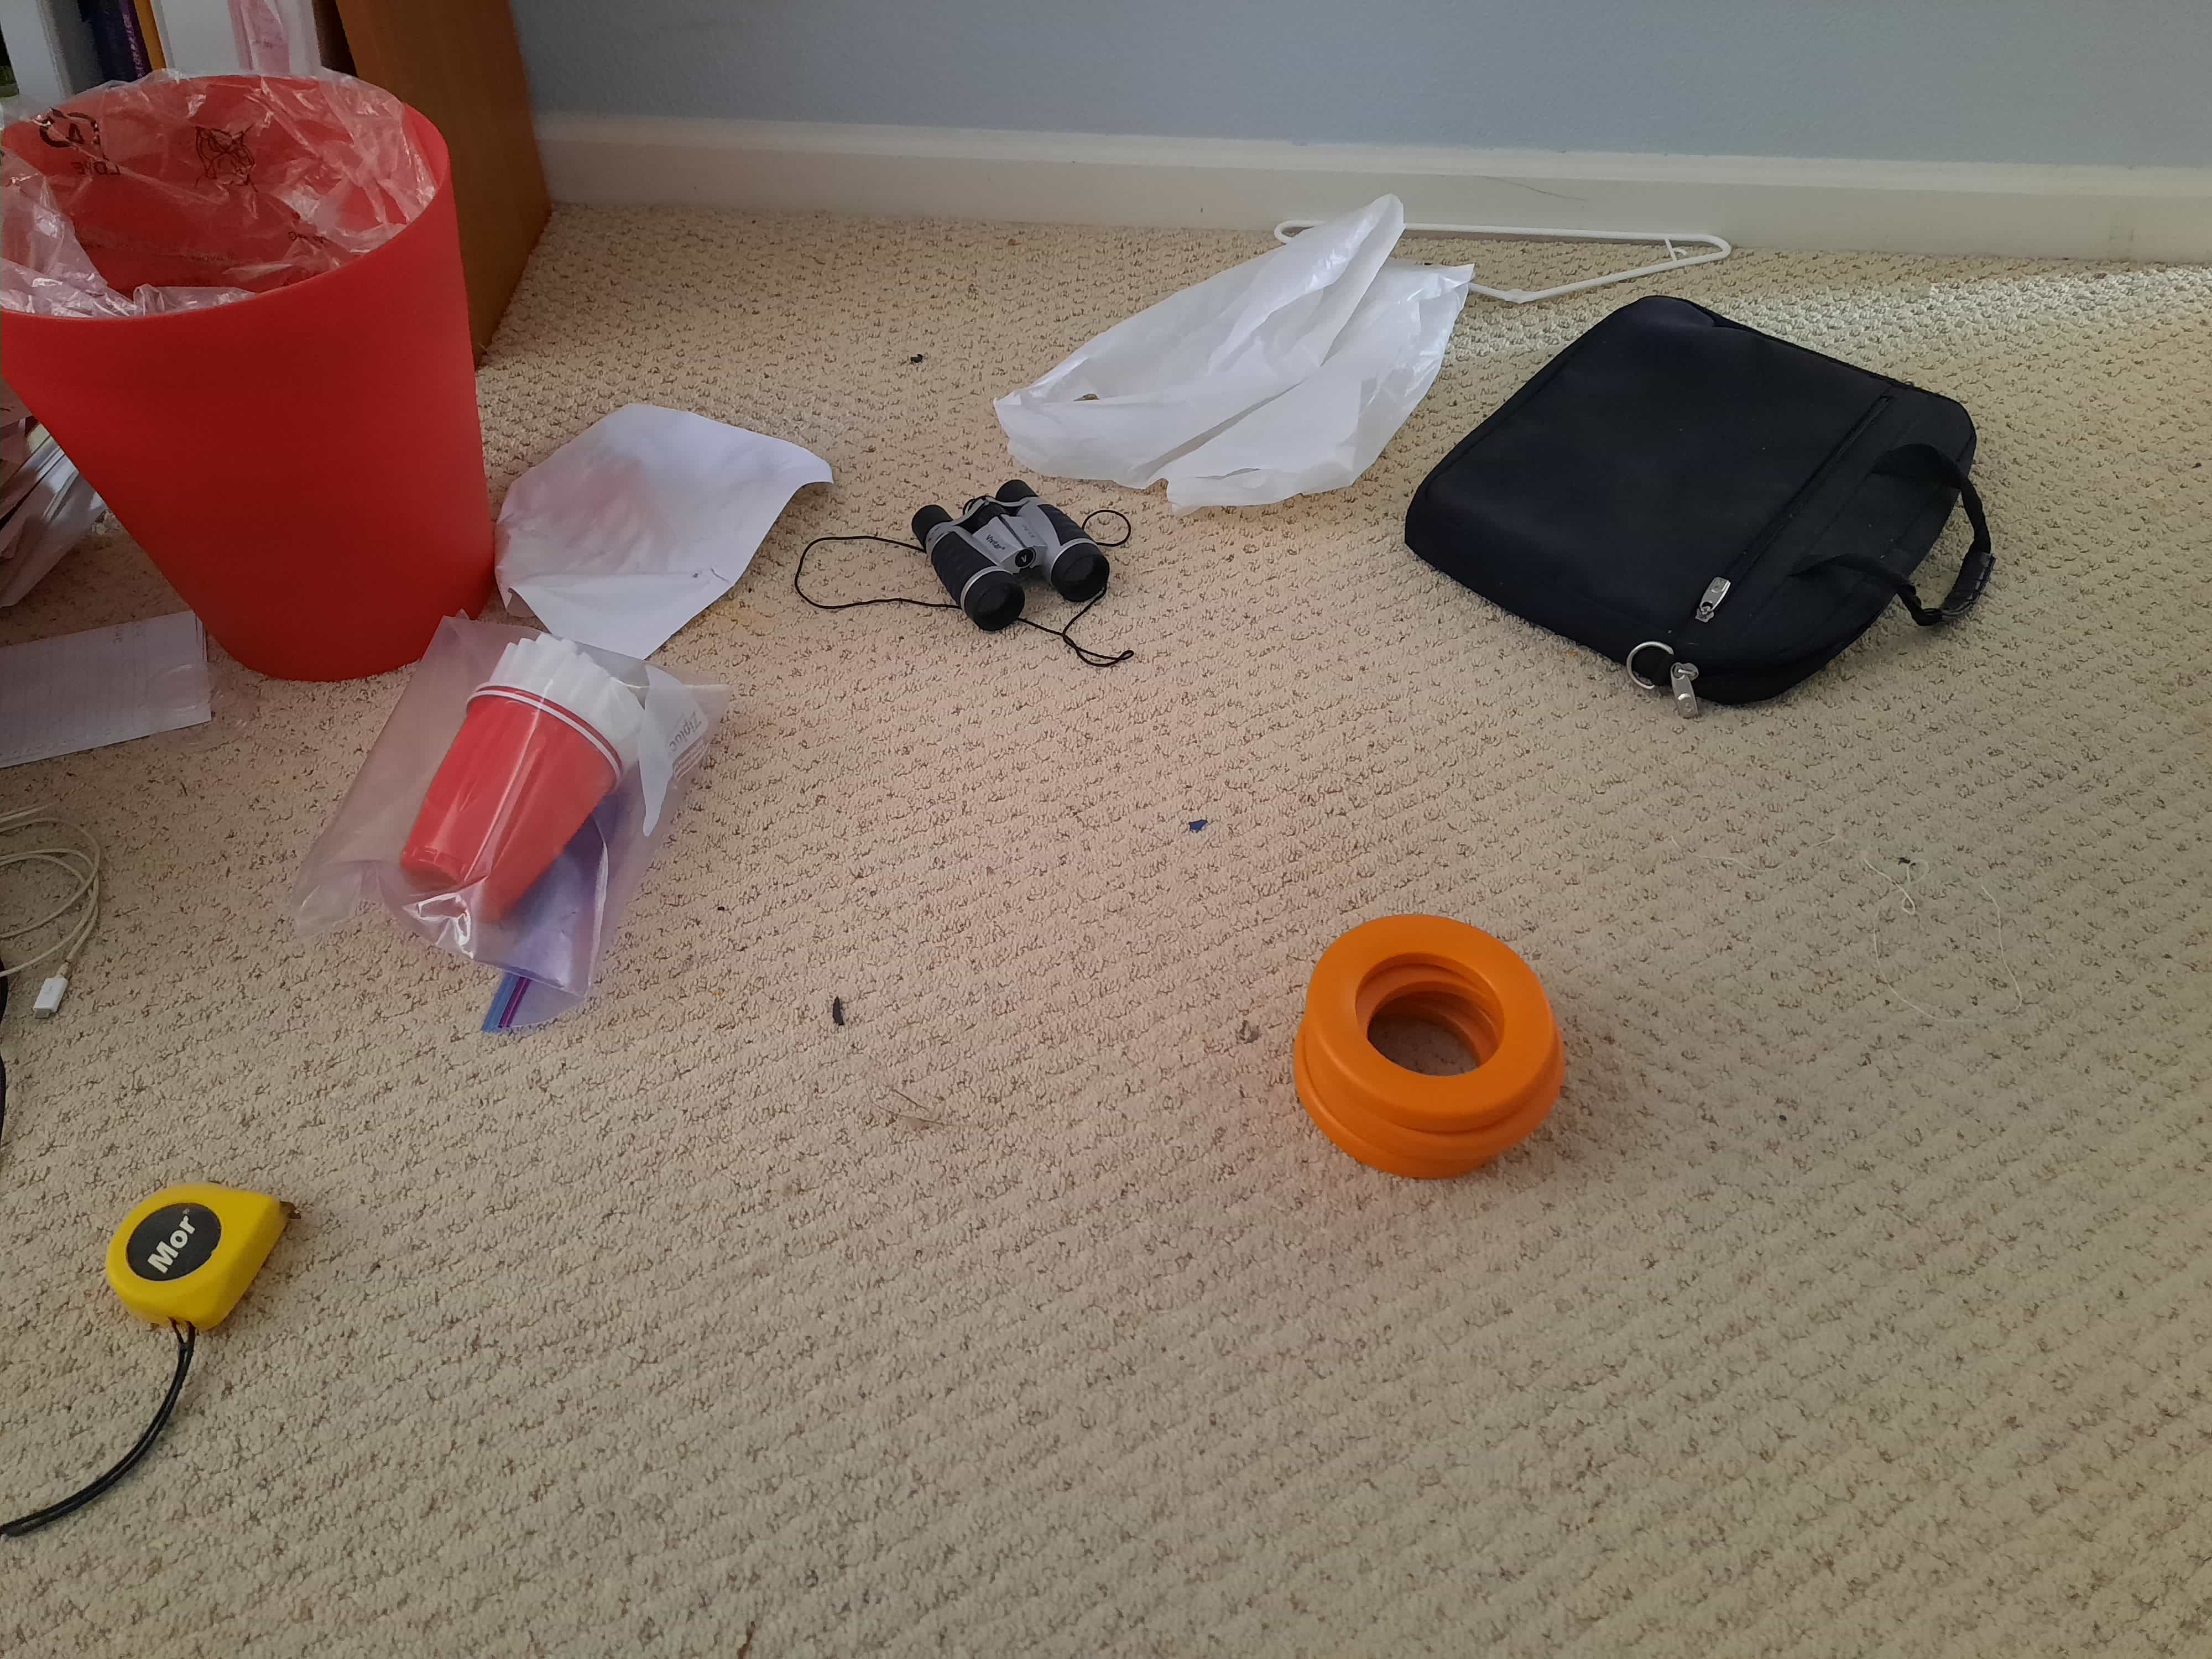FourStack: (1292, 922, 1561, 1176)
